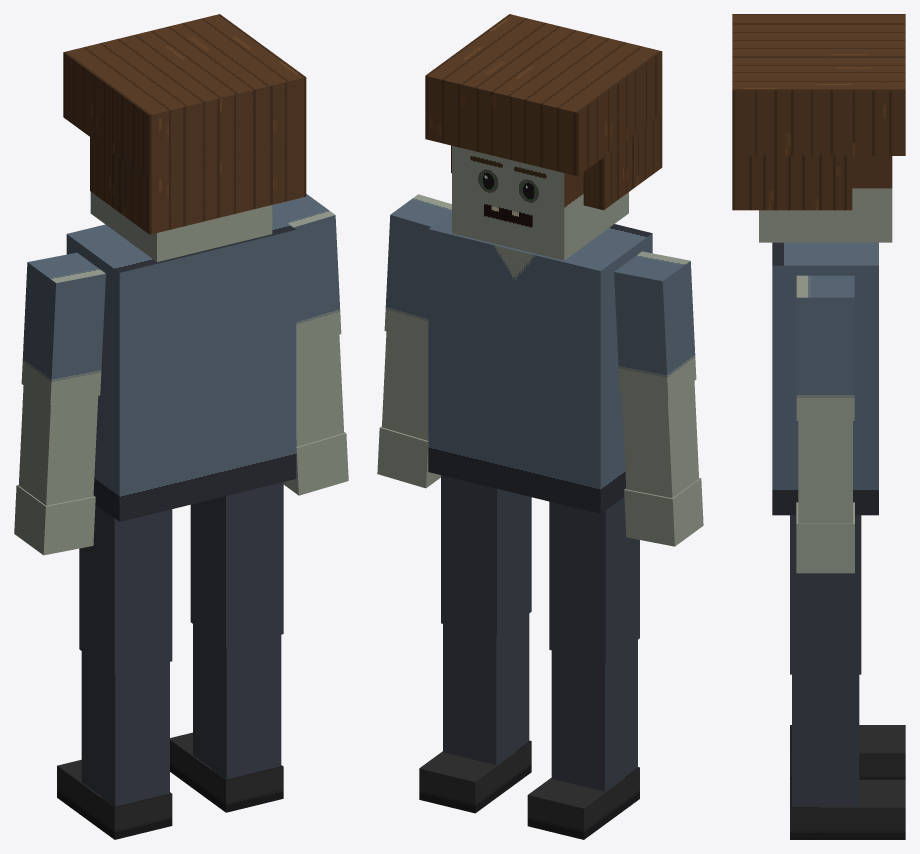
File: hair_afro.glb
3 renders of one model, left to right at view 1: azimuth 30°, elevation 25°; view 2: azimuth 150°, elevation 25°; view 3: azimuth 270°, elevation 25°, orthographic. The views are drawn at different scales.
Visible parts, largest first — view 1: block_torso, block_hair-afro, block_thigh.L, block_thigh.R, block_hair-afro-back, block_shin.R, block_shin.L, block_upper_arm.L, block_forearm.L, block_upper_arm.R, block_head, block_forearm.R (+4 smaller); view 2: block_torso, block_hair-afro, block_thigh.L, block_thigh.R, block_head, block_shin.L, block_shin.R, block_upper_arm.L, block_forearm.L, block_upper_arm.R, block_foot.L, block_foot.R (+4 smaller); view 3: block_hair-afro, block_torso, block_shin.R, block_upper_arm.R, block_thigh.R, block_hair-afro-back, block_head, block_forearm.R, block_foot.R, block_hand.R, block_foot.L.
Boxes of the visible parts, bbox=[...] form: block_torso: bbox=[66, 212, 296, 521]; block_hair-afro: bbox=[63, 14, 306, 180]; block_thigh.L: bbox=[79, 504, 172, 674]; block_thigh.R: bbox=[190, 482, 283, 647]; block_hair-afro-back: bbox=[90, 135, 306, 234]; block_shin.R: bbox=[193, 624, 281, 779]; block_shin.L: bbox=[81, 651, 169, 806]; block_upper_arm.L: bbox=[21, 252, 105, 404]; block_forearm.L: bbox=[18, 386, 98, 505]; block_upper_arm.R: bbox=[272, 194, 341, 347]; block_head: bbox=[90, 192, 272, 261]; block_forearm.R: bbox=[296, 335, 344, 446]; block_torso: bbox=[428, 212, 652, 513]; block_hair-afro: bbox=[425, 14, 662, 176]; block_thigh.L: bbox=[549, 497, 639, 663]; block_thigh.R: bbox=[441, 475, 531, 636]; block_head: bbox=[452, 145, 628, 260]; block_shin.L: bbox=[551, 640, 637, 791]; block_shin.R: bbox=[443, 614, 529, 765]; block_upper_arm.L: bbox=[614, 251, 696, 399]; block_forearm.L: bbox=[621, 381, 698, 498]; block_upper_arm.R: bbox=[384, 194, 451, 343]; block_foot.L: bbox=[527, 767, 639, 839]; block_foot.R: bbox=[419, 740, 531, 813]; block_hair-afro: bbox=[732, 14, 905, 155]; block_torso: bbox=[772, 242, 878, 515]; block_shin.R: bbox=[792, 674, 859, 806]; block_upper_arm.R: bbox=[796, 275, 854, 420]; block_thigh.R: bbox=[790, 515, 861, 674]; block_hair-afro-back: bbox=[732, 153, 852, 210]; block_head: bbox=[759, 156, 892, 242]; block_forearm.R: bbox=[798, 421, 852, 523]; block_foot.R: bbox=[790, 779, 905, 839]; block_hand.R: bbox=[796, 502, 854, 573]; block_foot.L: bbox=[790, 725, 905, 779].
Bounding box in the file's own units: 0.7948 × 1.85 × 0.39.
1 material, 1 textured.
